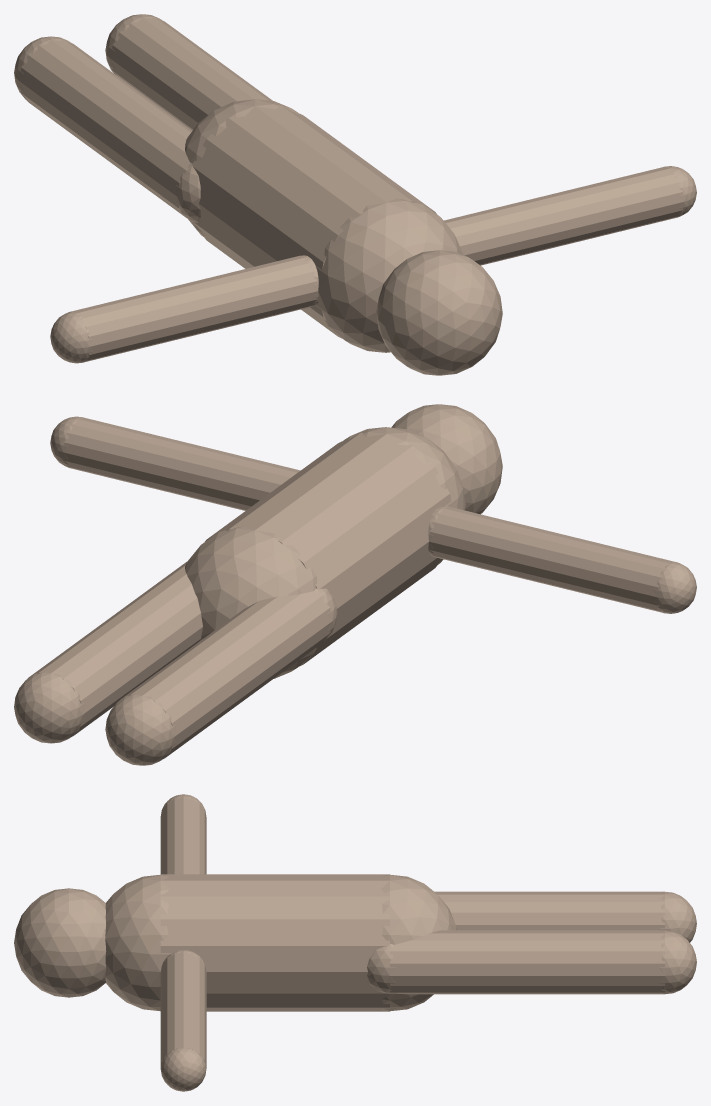
Rendered from f9b7c61b-4c97-45d3-a335-34d57cbf0e37_avatar.glb.
The picture shows the model from 3 angles, top to bottom: view 1: azimuth 30°, elevation 25°; view 2: azimuth 150°, elevation 25°; view 3: azimuth 270°, elevation 25°; orthographic projection. The views are drawn at different scales.
Parts seen in each view (by area): view 1: world; view 2: world; view 3: world.
Boxes of the visible parts, x1,y1,x2,y2 form: world: (14,14,696,375); world: (14,404,696,765); world: (14,794,696,1091).
Bounding box in the file's own units: 1.4 × 0.3 × 1.49.
